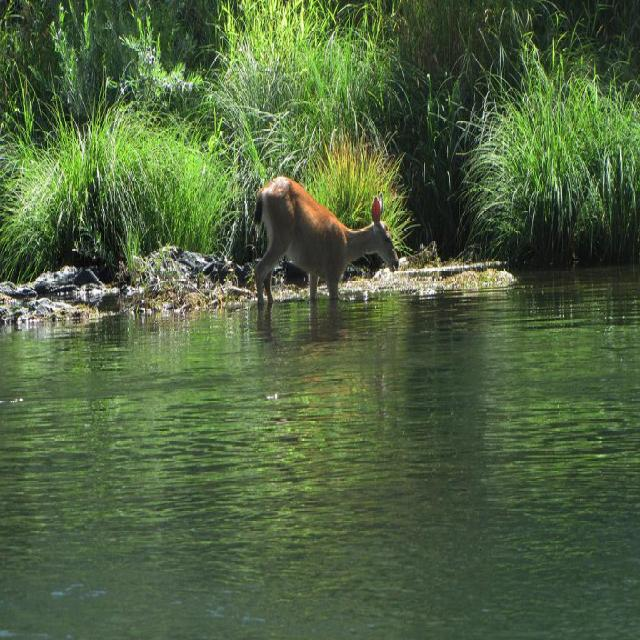Deer: (245, 171, 399, 306)
